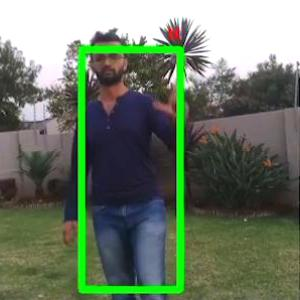land_hand: (152, 80, 187, 116)
